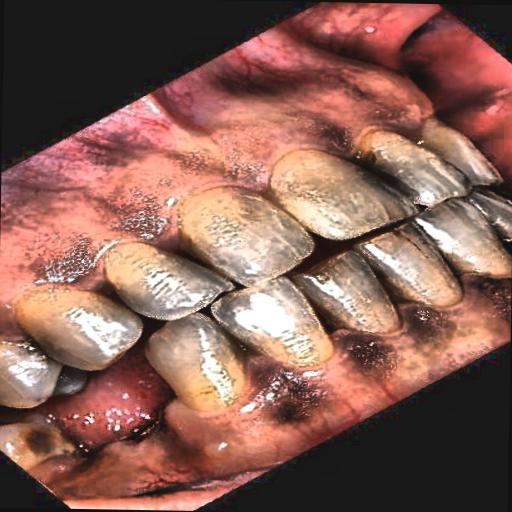Calculus: (0, 205, 391, 408), (201, 112, 493, 327)
